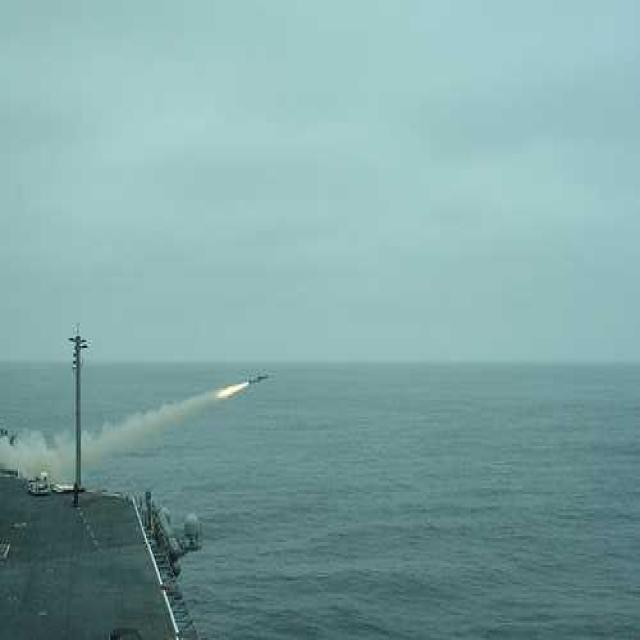missile: (248, 371, 270, 388)
